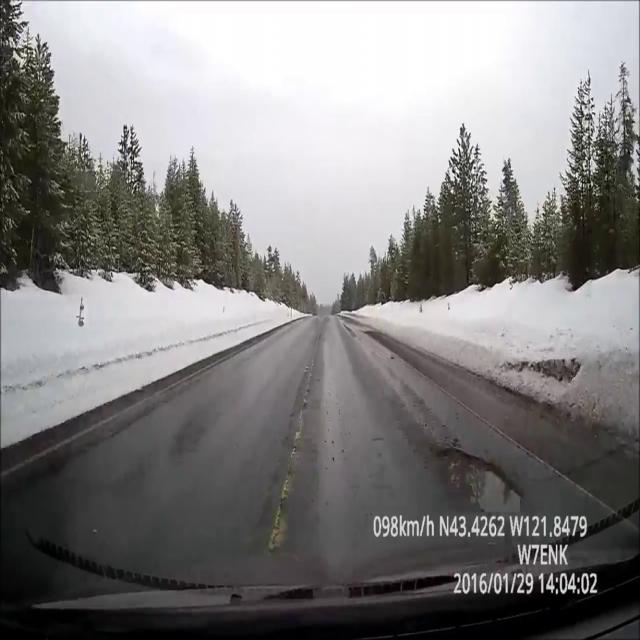Pothole: (434, 438, 525, 515)
